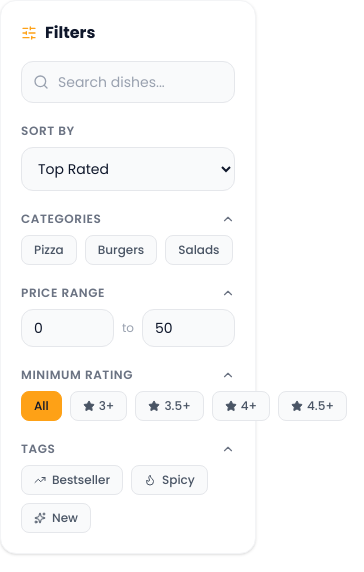
Scenario: SearchFilters › collapsing the Categories section hides the category buttons
This screenshot has width=364, height=572.
Step 1. Click the button "Categories" → (128, 219), box [21,211,235,227]
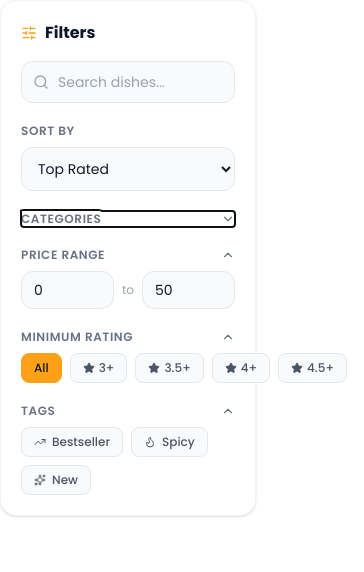
Result: the button "Pizza" is gone
